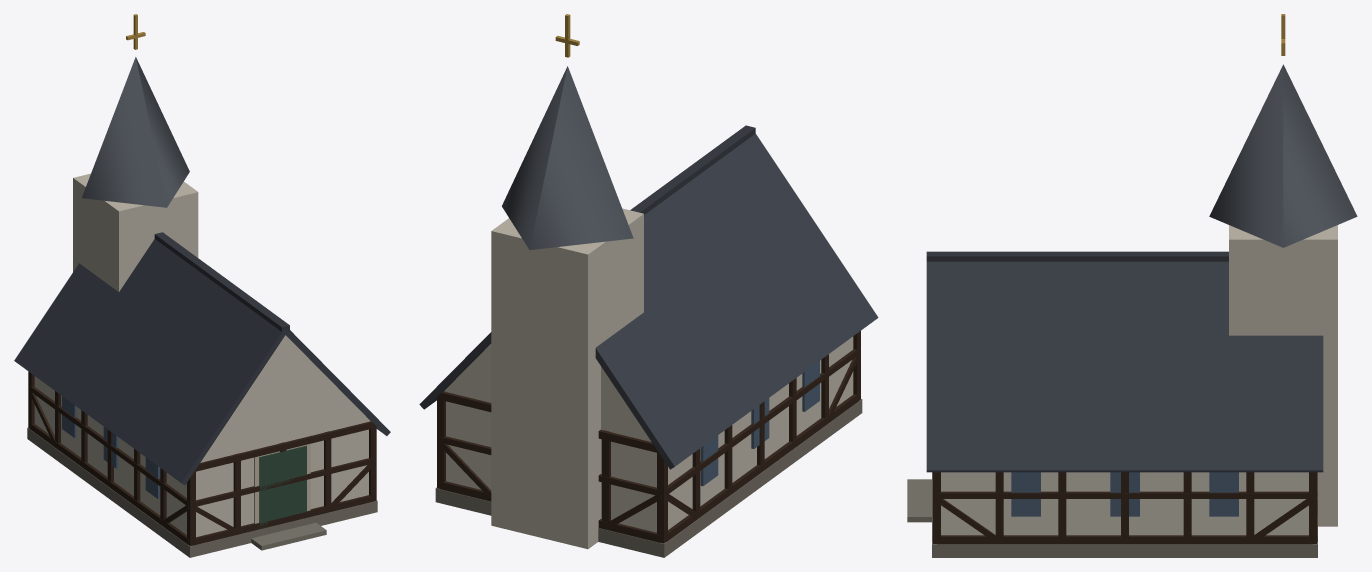
The model's file is procedural_chapel@3.glb.
3 renders of one model, left to right at view 1: azimuth 30°, elevation 25°; view 2: azimuth 150°, elevation 25°; view 3: azimuth 270°, elevation 25°, orthographic. The views are drawn at different scales.
Visible parts, largest first — view 1: part_0; view 2: part_0; view 3: part_0.
Part boxes in pixels (<box>): part_0: <box>14,14,390,557</box>; part_0: <box>419,14,878,557</box>; part_0: <box>907,14,1357,557</box>.
Size of the model in its own units: 5.81 by 10.9 by 9.1.
